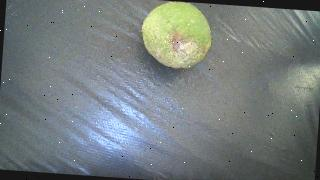DESECHO: (139, 0, 213, 69)
